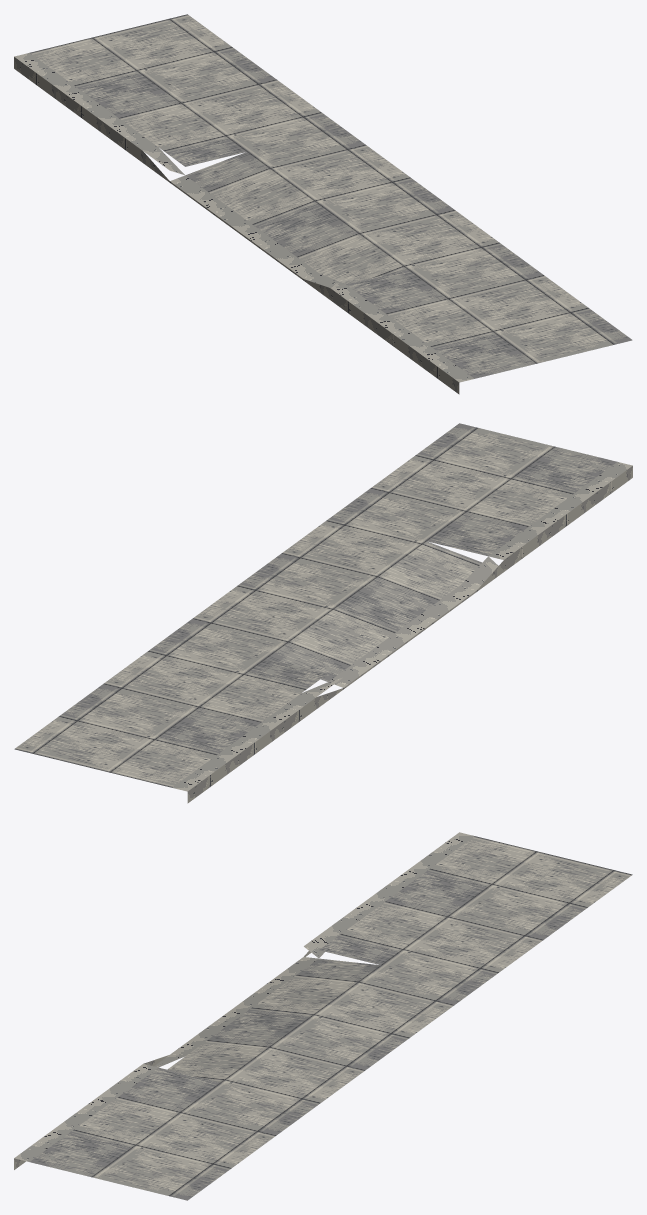
The model's file is SW_DrivewayTransition_10m.obj.
3 renders of one model, top to bottom at view 1: azimuth 30°, elevation 25°; view 2: azimuth 150°, elevation 25°; view 3: azimuth 330°, elevation 25°, orthographic.
Visible parts, largest first — view 1: SW_DrivewayTransition_10m_Mesh_M_Road_SidewalkConcrete, SW_DrivewayTransition_10m_Mesh_M_Road_CurbConcrete; view 2: SW_DrivewayTransition_10m_Mesh_M_Road_SidewalkConcrete, SW_DrivewayTransition_10m_Mesh_M_Road_CurbConcrete; view 3: SW_DrivewayTransition_10m_Mesh_M_Road_SidewalkConcrete, SW_DrivewayTransition_10m_Mesh_M_Road_CurbConcrete.
Boxes of the visible parts, x1,y1,x2,y2 form: SW_DrivewayTransition_10m_Mesh_M_Road_SidewalkConcrete: (29,14,632,378); SW_DrivewayTransition_10m_Mesh_M_Road_CurbConcrete: (14,53,474,394); SW_DrivewayTransition_10m_Mesh_M_Road_SidewalkConcrete: (14,423,617,787); SW_DrivewayTransition_10m_Mesh_M_Road_CurbConcrete: (172,462,632,803); SW_DrivewayTransition_10m_Mesh_M_Road_SidewalkConcrete: (30,836,632,1200); SW_DrivewayTransition_10m_Mesh_M_Road_CurbConcrete: (14,832,474,1169).
Bounding box in the file's own units: 2.25 × 0.15 × 10.
Materials: 2 (2 with a texture image).
